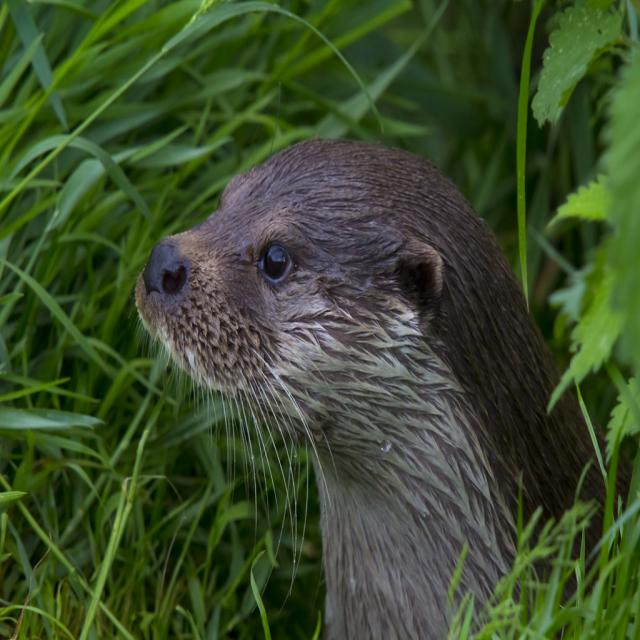otter: (138, 138, 567, 640)
